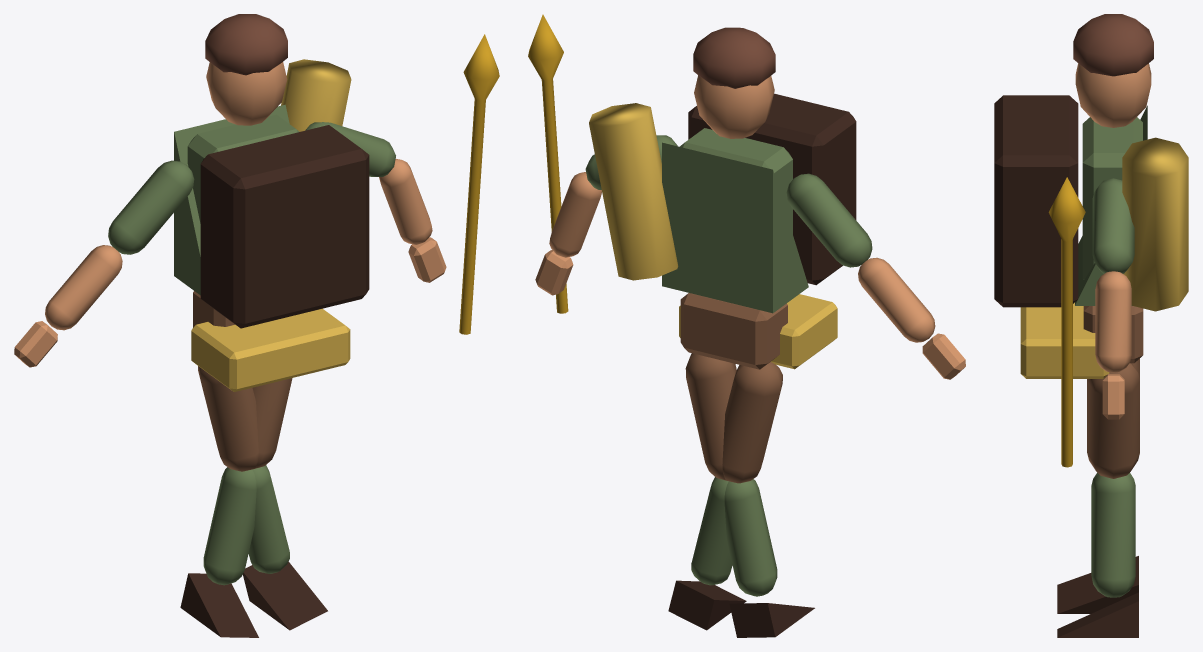
The model's file is adventurer.rustic.glb.
3 views of the same model, side by side, from view 1: azimuth 30°, elevation 25°; view 2: azimuth 150°, elevation 25°; view 3: azimuth 270°, elevation 25° (orthographic).
Parts seen in each view (by area): view 1: accessory.body, accessory.waist, shin.right, accessory.main-hand, upper-arm.left, hair, thigh.left, accessory.back, head, forearm.left, tunic, foot.left (+9 smaller); view 2: tunic, accessory.back, accessory.body, pelvis, thigh.left, shin.right, upper-arm.left, hair, thigh.right, head, accessory.main-hand, forearm.left (+8 smaller); view 3: accessory.body, accessory.back, shin.left, accessory.waist, thigh.right, accessory.main-hand, hair, torso, head, forearm.right, upper-arm.right, foot.left (+4 smaller).
Boxes of the visible parts, x1,y1,x2,y2 form: accessory.body: (200,125,369,328); accessory.waist: (191,308,350,391); shin.right: (203,467,256,585); accessory.main-hand: (459,34,499,334); upper-arm.left: (108,160,194,254); hair: (205,14,287,75); thigh.left: (198,366,258,471); accessory.back: (281,59,351,131); head: (206,62,287,125); forearm.left: (45,245,122,330); tunic: (174,104,289,295); foot.left: (243,561,327,630); tunic: (662,142,808,313); accessory.back: (589,103,678,280); accessory.body: (688,93,856,285); pelvis: (680,293,787,369); thigh.left: (722,362,782,483); shin.right: (724,479,777,596); upper-arm.left: (786,173,872,267); hair: (693,27,775,88); thigh.right: (685,353,736,480); head: (694,75,774,138); accessory.main-hand: (528,14,568,313); forearm.left: (858,257,935,342); accessory.body: (994,95,1078,307); accessory.back: (1122,137,1188,311); shin.left: (1091,474,1135,597); accessory.waist: (1020,302,1109,378); thigh.right: (1087,363,1139,478); accessory.main-hand: (1048,177,1085,467); hair: (1073,14,1153,76); torso: (1082,117,1142,279); head: (1075,63,1151,127); forearm.right: (1095,271,1131,372); upper-arm.right: (1092,178,1134,273); foot.left: (1057,592,1138,637).
Size of the model in its own units: 2.43 by 3.01 by 0.88.
